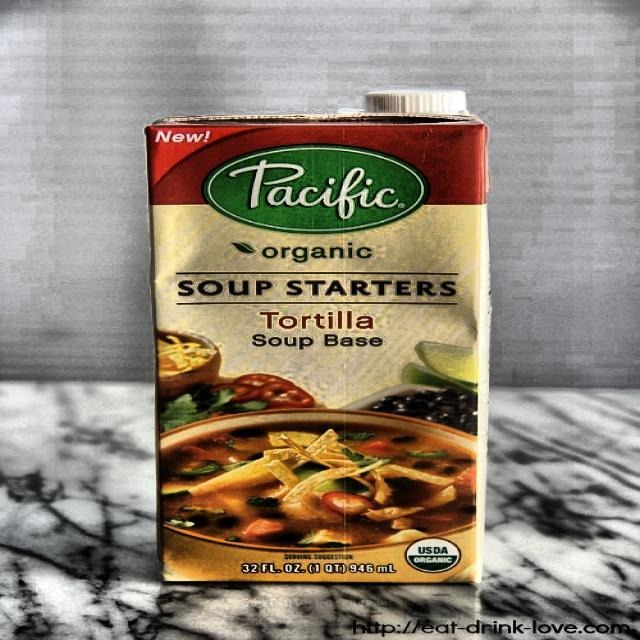cardboard: (144, 107, 490, 584)
